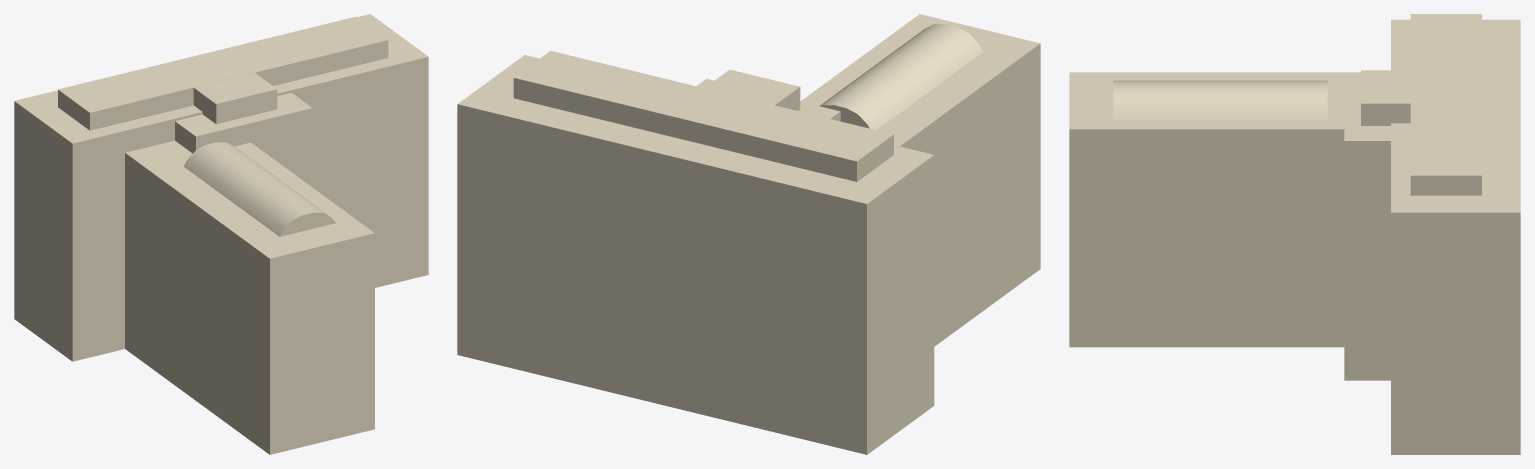
The model's file is SM_Roderick_Hill_Building.fbx.
3 views of the same model, side by side, from view 1: azimuth 30°, elevation 25°; view 2: azimuth 150°, elevation 25°; view 3: azimuth 270°, elevation 25° (orthographic). The views are drawn at different scales.
Parts seen in each view (by area): view 1: SM_Roderick_Hill_Building; view 2: SM_Roderick_Hill_Building; view 3: SM_Roderick_Hill_Building.
Boxes of the visible parts, bbox=[...] form: SM_Roderick_Hill_Building: bbox=[14, 14, 428, 454]; SM_Roderick_Hill_Building: bbox=[457, 14, 1040, 454]; SM_Roderick_Hill_Building: bbox=[1069, 14, 1520, 454].
Size of the model in its own units: 53.35 by 33.78 by 52.73.
